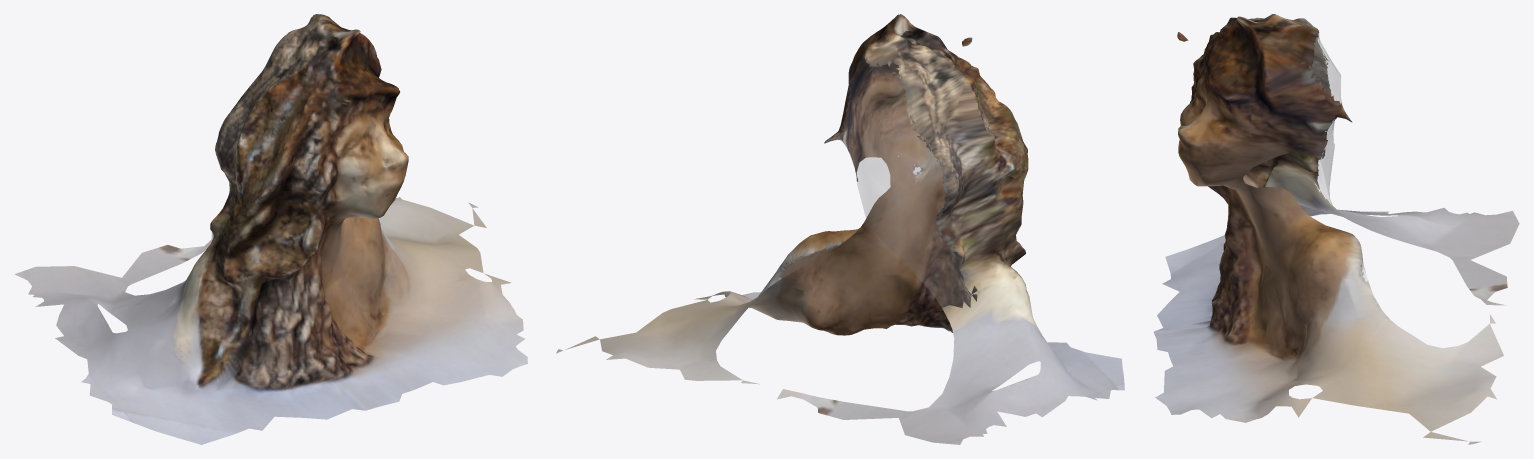
Rendered from sadLady.glb.
3 views of the same model, side by side, from view 1: azimuth 30°, elevation 25°; view 2: azimuth 150°, elevation 25°; view 3: azimuth 270°, elevation 25° (orthographic). The views are drawn at different scales.
Visible parts, largest first — view 1: sadLady; view 2: sadLady; view 3: sadLady.
Part boxes in pixels (x1,y1,x2,y2): sadLady: [14, 14, 527, 444]; sadLady: [556, 14, 1124, 444]; sadLady: [1153, 14, 1519, 444].
Bounding box in the file's own units: 23 × 15.54 × 15.51.
Materials: 2 (1 with a texture image).
